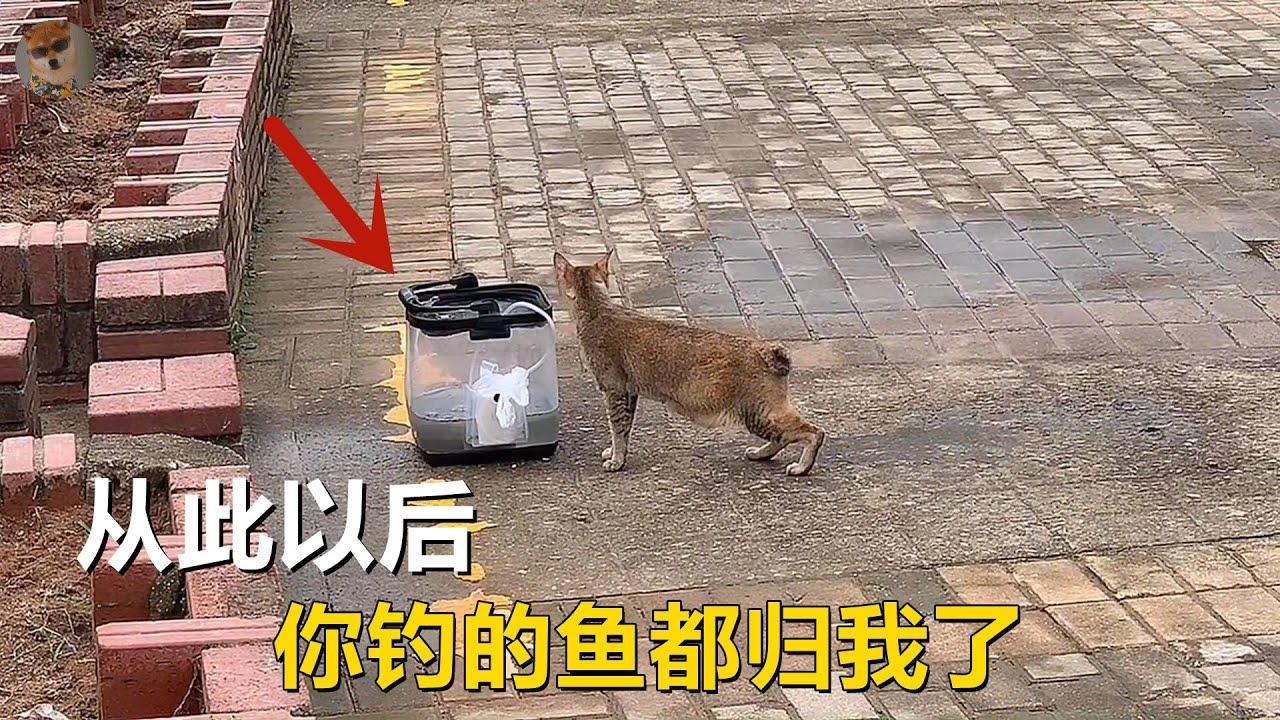animal: (507, 221, 830, 542)
